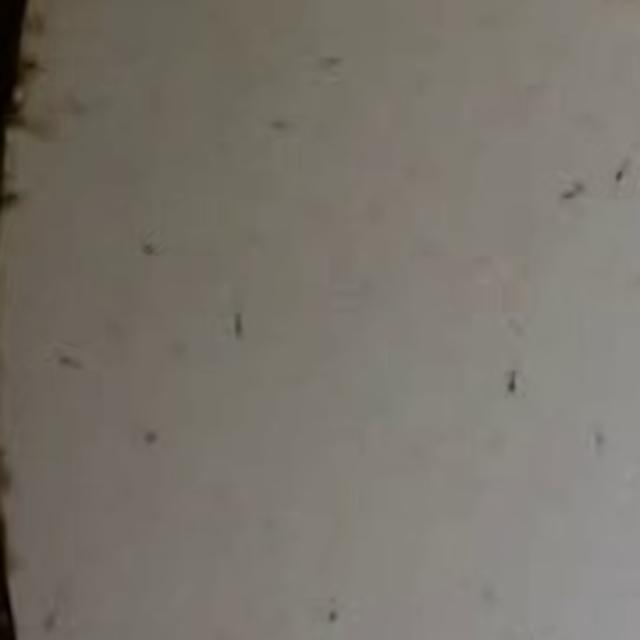shrimp-seed: (218, 293, 262, 354), (114, 212, 160, 264), (602, 138, 640, 194), (34, 587, 71, 637), (550, 167, 592, 209), (506, 364, 540, 415), (248, 105, 300, 138), (49, 342, 89, 378), (583, 422, 613, 462), (320, 597, 347, 634)
